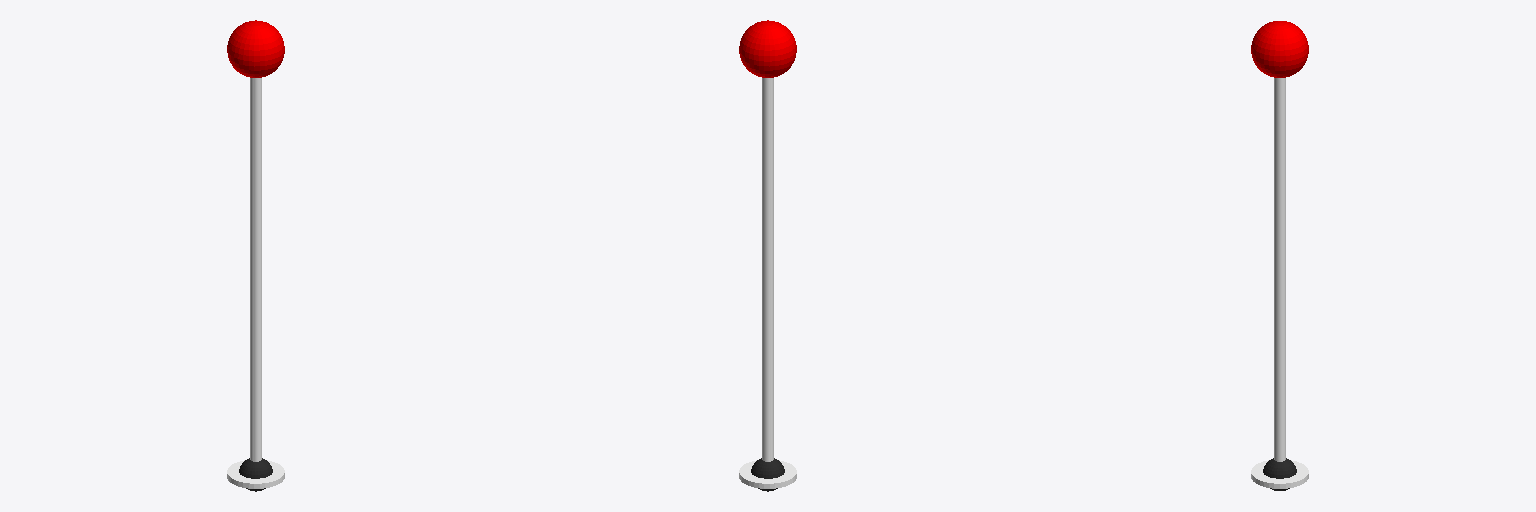
robot.urdf — six_dof_robot:
<?xml version="1.0"?>
<robot name="six_dof_robot">

  <!-- Články -->
  <link name="base_link">
    <visual>
      <geometry>
        <cylinder length="0.01" radius="0.05"/>
      </geometry>
      <material name="white">
        <color rgba="1 1 1 1"/>
      </material>
    </visual>
  </link>

  <link name="link_1">
    <visual>
      <geometry>
        <sphere radius="0.03"/>
      </geometry>
      <material name="gray">
        <color rgba="0.2 0.2 0.2 1"/>
      </material>
      <origin xyz="0 0 0" rpy="0 0 0"/>
    </visual>
  </link>

  <link name="link_2">
    <visual>
      <geometry>
        <cylinder length="0.178" radius="0.01"/>
      </geometry>
      <material name="white">
        <color rgba="1 1 1 1"/>
      </material>
      <origin xyz="0 0 0.089" rpy="0 0 0"/>
    </visual>
  </link>

  <link name="link_3">
    <visual>
      <geometry>
        <cylinder length="0.203" radius="0.01"/>
      </geometry>
      <material name="white">
        <color rgba="1 1 1 1"/>
      </material>
      <origin xyz="0 0 0.1015" rpy="0 0 0"/>
    </visual>
  </link>

  <link name="link_4">
    <visual>
      <geometry>
        <cylinder length="0.203" radius="0.01"/>
      </geometry>
      <material name="white">
        <color rgba="1 1 1 1"/>
      </material>
      <origin xyz="0 0 0.1015" rpy="0 0 0"/>
    </visual>
  </link>

  <link name="link_5">
    <visual>
      <geometry>
        <cylinder length="0.18" radius="0.01"/>
      </geometry>
      <material name="white">
        <color rgba="1 1 1 1"/>
      </material>
      <origin xyz="0 0 0.09" rpy="0 0 0"/>
    </visual>
  </link>

  <link name="link_6">
    <visual>
      <geometry>
        <cylinder length="0.15" radius="0.01"/>
      </geometry>
      <material name="white">
        <color rgba="1 1 1 1"/>
      </material>
      <origin xyz="0 0 0.075" rpy="0 0 0"/>
    </visual>
  </link>

  <link name="tool0">
    <visual>
      <geometry>
        <sphere radius="0.05"/>
      </geometry>
      <material name="red_material">
        <color rgba="1 0 0 1.0"/>
      </material>
      <origin xyz="0 0 0.025" rpy="0 0 0"/>
    </visual>
  </link>

  <!-- Kĺby -->
  <joint name="joint_1" type="revolute">
    <axis xyz="0 0 1"/>
    <parent link="base_link"/>
    <child link="link_1"/>
    <origin xyz="0 0 0" rpy="0 0 0"/>
    <limit effort="1000.0" lower="-1.62" upper="1.62" velocity="0.5"/>
  </joint>

  <joint name="joint_2" type="revolute">
    <axis xyz="0 1 0"/>
    <parent link="link_1"/>
    <child link="link_2"/>
    <origin xyz="0 0 0" rpy="0 0 0"/>
    <limit effort="1000.0" lower="-0.96" upper="2.182" velocity="0.5"/>
  </joint>

  <joint name="joint_3" type="revolute">
    <axis xyz="0 1 0"/>
    <parent link="link_2"/>
    <child link="link_3"/>
    <origin xyz="0 0 0.178" rpy="0 0 0"/>
    <limit effort="1000.0" lower="-0.96" upper="2.182" velocity="0.5"/>
  </joint>

  <joint name="joint_4" type="revolute">
    <axis xyz="0 0 1"/>
    <parent link="link_3"/>
    <child link="link_4"/>
    <origin xyz="0 0 0.203" rpy="0 0 0"/>
    <limit effort="1000.0" lower="-3.14" upper="3.14" velocity="0.5"/>
  </joint>

  <joint name="joint_5" type="revolute">
    <axis xyz="0 1 0"/>
    <parent link="link_4"/>
    <child link="link_5"/>
    <origin xyz="0 0 0.203" rpy="0 0 0"/>
    <limit effort="1000.0" lower="-2.2" upper="2.2" velocity="0.5"/>
  </joint>

  <joint name="joint_6" type="prismatic">
    <axis xyz="0 0 1"/>
    <parent link="link_5"/>
    <child link="link_6"/>
    <origin xyz="0 0 0.05" rpy="0 0 0"/>
    <limit effort="1000.0" lower="0" upper="0.1" velocity="0.5"/>
  </joint>

  <joint name="joint_tool" type="fixed">
    <parent link="link_6"/>
    <child link="tool0"/>
    <origin xyz="0 0 0.15" rpy="0 0 0"/>
  </joint>

</robot>

--- Render facts (derived) ---
The picture shows the robot from 3 angles, left to right: view 1: azimuth 30°, elevation 25°; view 2: azimuth 150°, elevation 25°; view 3: azimuth 270°, elevation 25°; orthographic projection.
Robot: six_dof_robot — 8 links, 7 joints (5 revolute, 1 prismatic, 1 fixed); root link base_link; default pose: all joints at 0.
Links seen in each view (by area): view 1: tool0, link_4, link_3, link_2, base_link, link_5, link_1; view 2: tool0, link_4, link_3, link_2, base_link, link_5, link_1; view 3: tool0, link_4, link_3, link_2, link_5, base_link, link_1.
Link boxes in pixels (x1,y1,x2,y2): tool0: (227,20,284,77); link_4: (250,168,261,276); link_3: (250,275,261,382); link_2: (250,381,261,461); base_link: (227,460,284,488); link_5: (250,78,261,169); link_1: (239,458,272,491); tool0: (739,20,796,77); link_4: (762,168,773,276); link_3: (762,275,773,382); link_2: (762,381,773,461); base_link: (739,460,796,488); link_5: (762,78,773,169); link_1: (751,458,784,491); tool0: (1251,21,1308,77); link_4: (1274,168,1285,276); link_3: (1274,275,1285,382); link_2: (1274,381,1285,461); link_5: (1274,78,1285,169); base_link: (1251,460,1308,488); link_1: (1263,458,1296,490).
Size in the robot's own frame: 0.1 by 0.1 by 0.889 metres.
Geometry: primitives only (box / cylinder / sphere), no mesh files.
